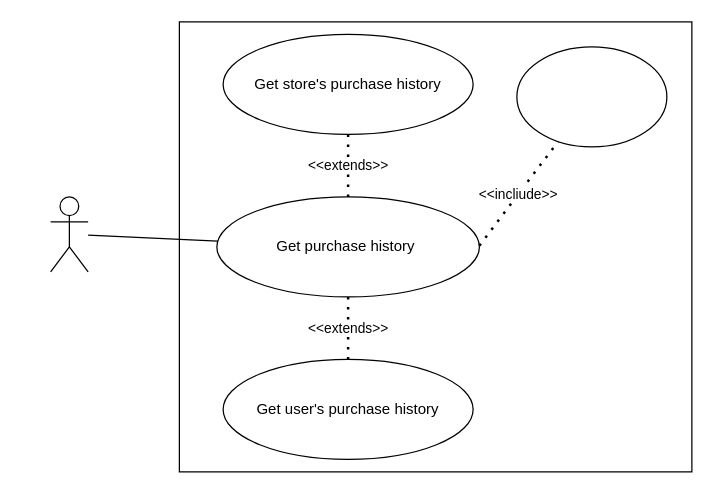
Some shapes in this 714 by 494 pixel diagram are drawn without their labels. The shapes that lost their labels are listed below. From the top down, each one's centre as x and y in pixels, then its label:
point (591, 96): Get order information
point (68, 234): System admin
